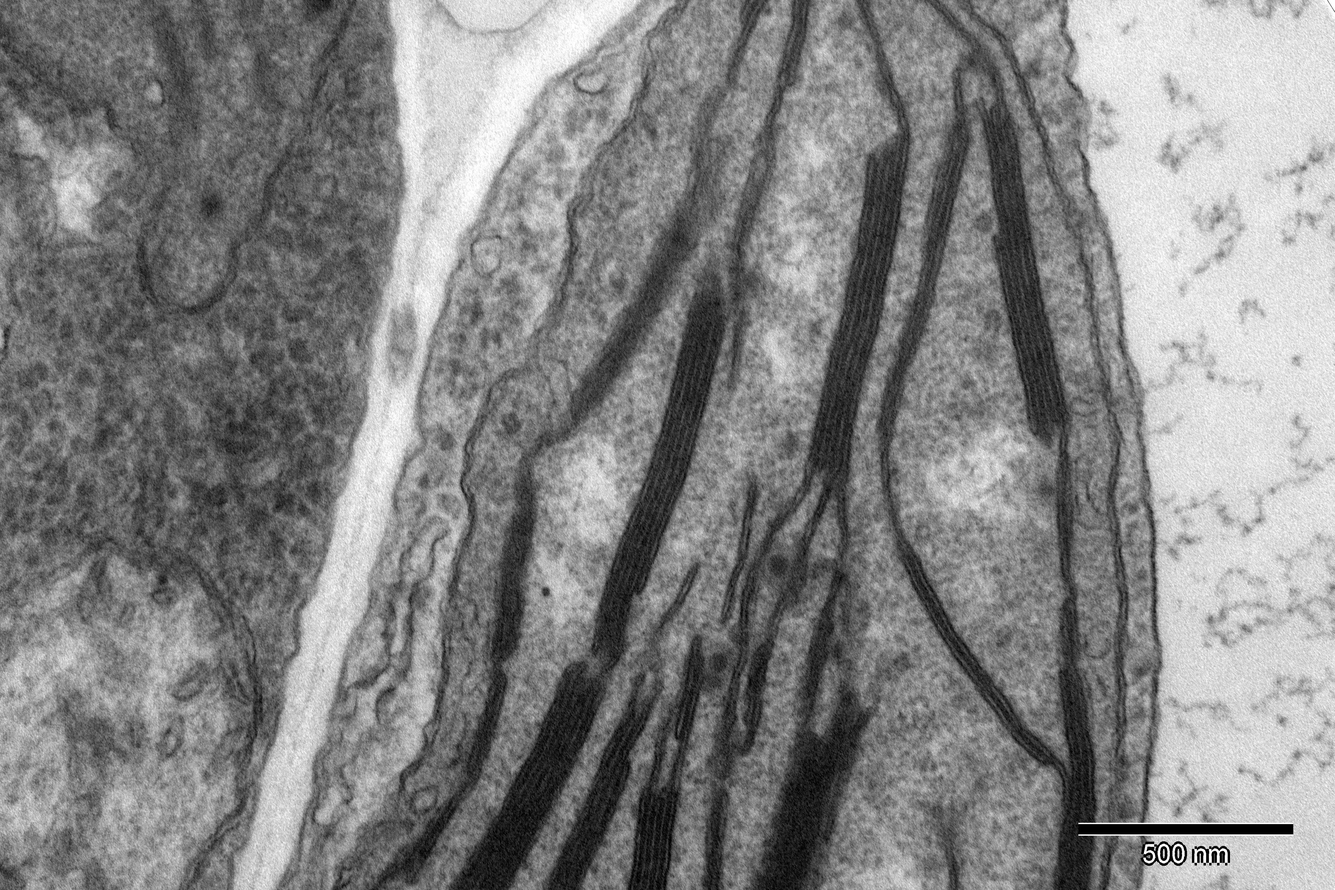granum: (587, 264, 730, 668), (566, 127, 731, 424), (801, 124, 913, 484), (441, 660, 614, 890), (973, 98, 1077, 438), (742, 681, 882, 889), (541, 692, 661, 890), (481, 459, 541, 663), (1049, 664, 1101, 890), (918, 117, 973, 265), (622, 783, 683, 889), (649, 650, 708, 744)
